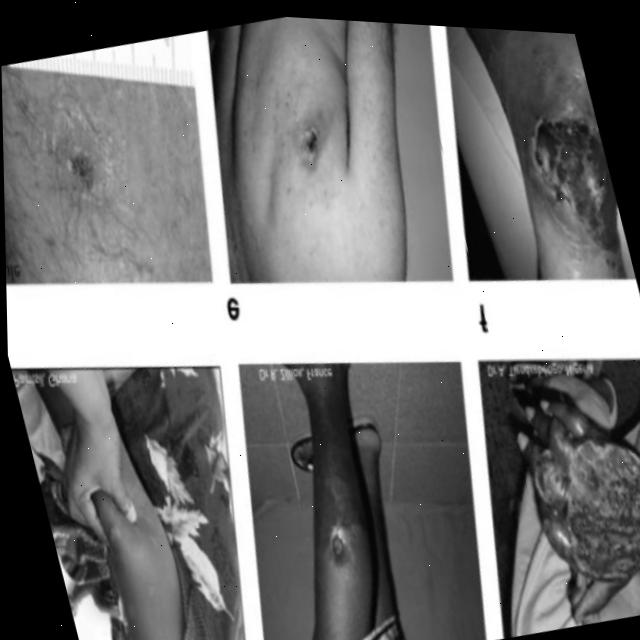Eczema: (516, 74, 629, 267), (541, 438, 640, 558), (51, 125, 117, 188), (281, 109, 334, 170), (318, 529, 341, 563), (102, 522, 119, 543)
